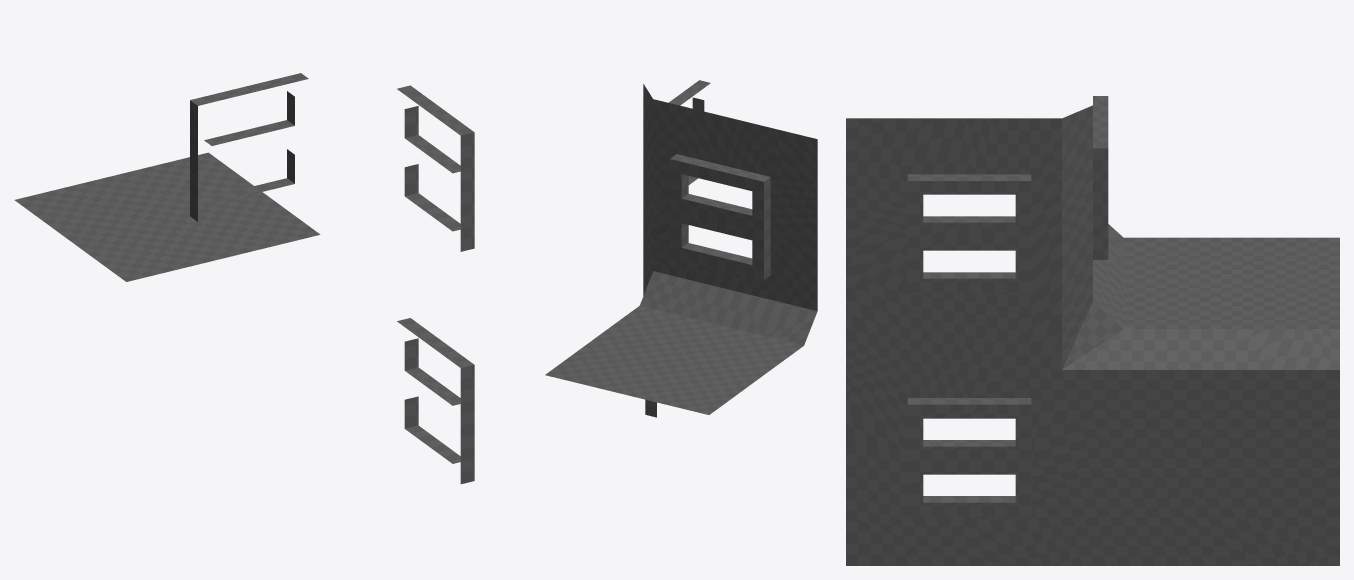
The picture shows the model from 3 angles, left to right: view 1: azimuth 30°, elevation 25°; view 2: azimuth 150°, elevation 25°; view 3: azimuth 270°, elevation 25°; orthographic projection. The views are drawn at different scales.
Visible parts, largest first — view 1: 2; view 2: 2; view 3: 2.
Boxes of the visible parts, box(x1,y1,x2,y2) form: 2: box(14, 73, 474, 484); 2: box(545, 80, 817, 417); 2: box(846, 96, 1339, 565).
Bounding box in the file's own units: 2.12 × 4 × 4.
2 materials, 2 textured.
